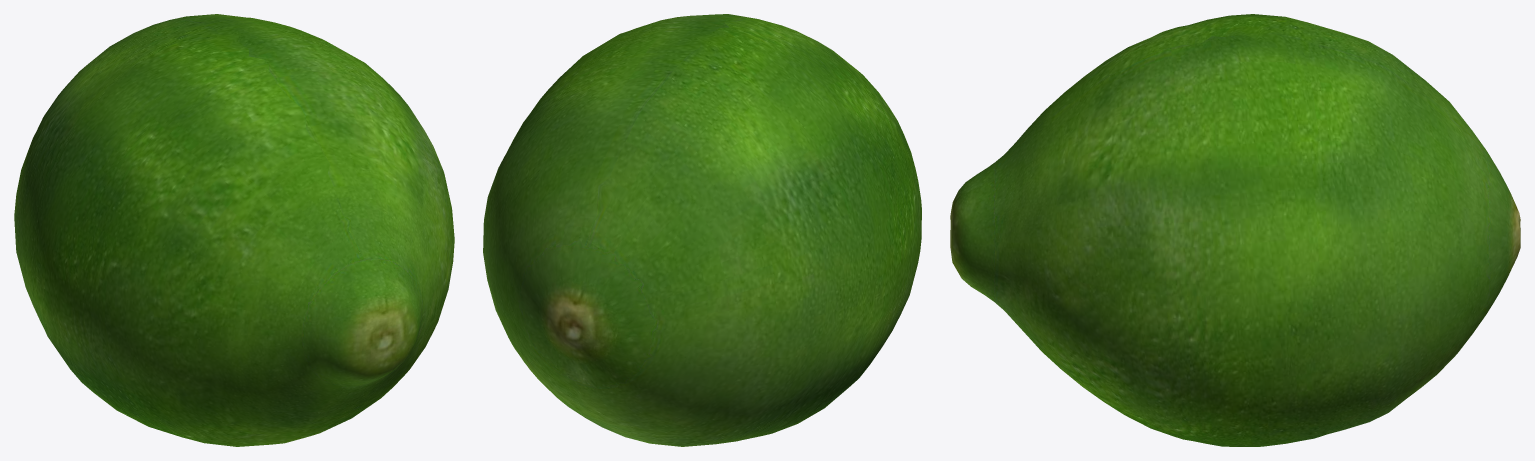
Rendered from Lime.obj.
The picture shows the model from 3 angles, left to right: view 1: azimuth 30°, elevation 25°; view 2: azimuth 150°, elevation 25°; view 3: azimuth 270°, elevation 25°; orthographic projection.
Bounding box in the file's own units: 0.0401 × 0.04 × 0.0527.
1 material, 1 textured.
